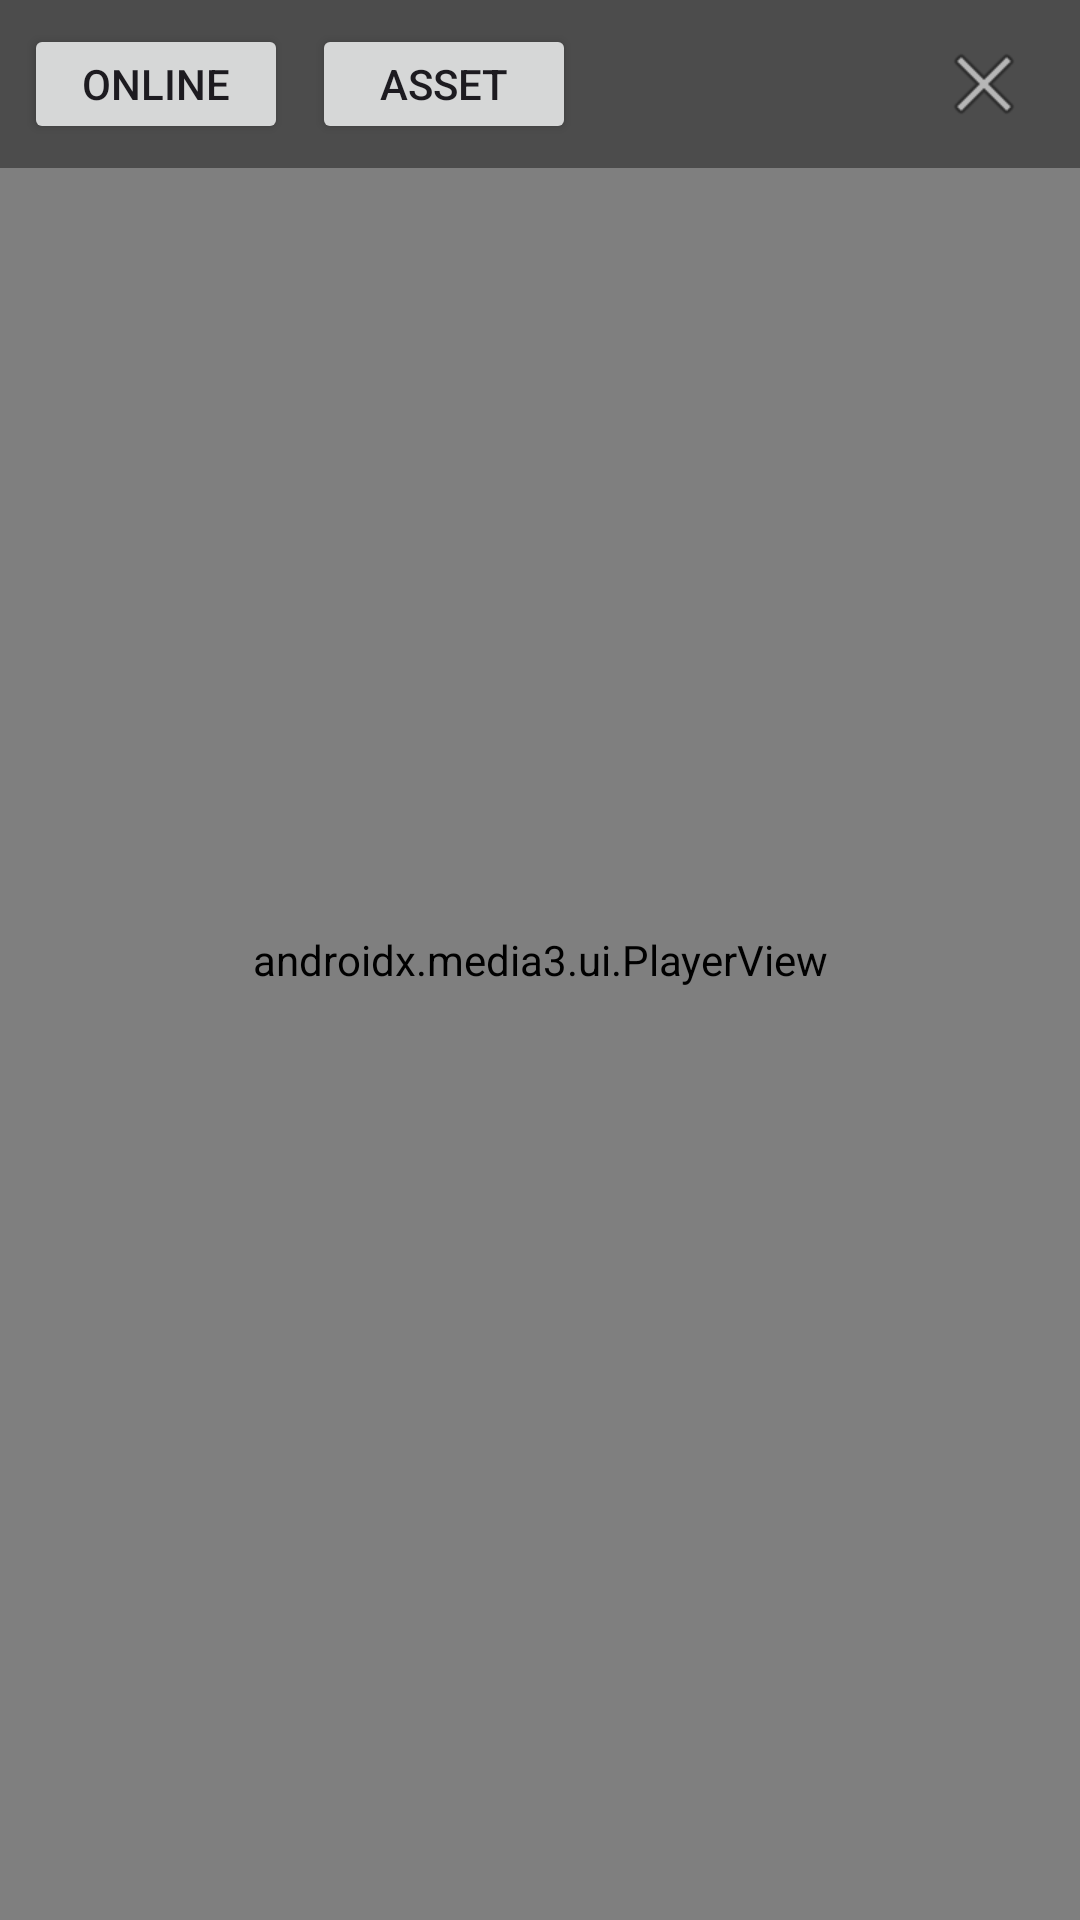

Screen size 1080px x 1920px. Icon name, then its center in pixels as (x,y):
Chiudi: (984,84)
